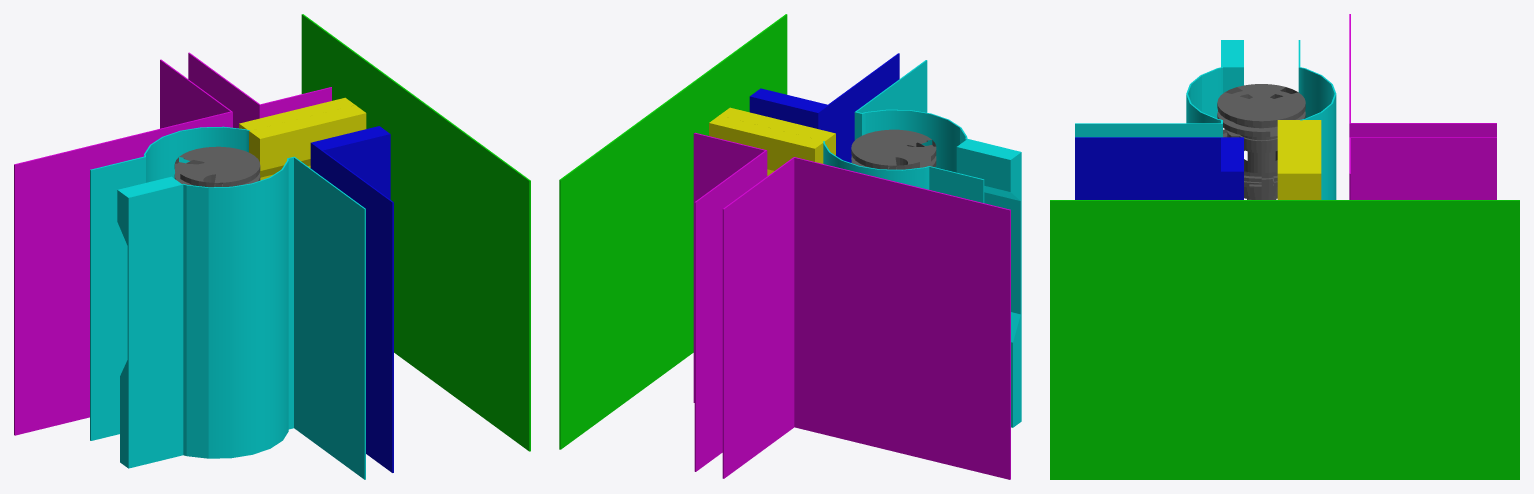
File: Level_Walls.fbx
3 views of the same model, side by side, from view 1: azimuth 30°, elevation 25°; view 2: azimuth 150°, elevation 25°; view 3: azimuth 270°, elevation 25° (orthographic). The views are drawn at different scales.
Parts seen in each view (by area): view 1: Tower_Wall, Right_Wall, Back_Wall, Front_Wall, Tutorial_Wall_Details, Tower; view 2: Back_Wall, Right_Wall, Tower_Wall, Front_Wall, Tutorial_Wall_Details, Tower; view 3: Right_Wall, Back_Wall, Front_Wall, Tower_Wall, Tower, Tutorial_Wall_Details, Tower_Piece5, Tower_Piece6.
Boxes of the visible parts, x1,y1,x2,y2 form: Tower_Wall: (90,126,365,479); Right_Wall: (301,14,530,451); Back_Wall: (14,52,331,435); Front_Wall: (310,126,393,472); Tutorial_Wall_Details: (239,97,366,177); Tower: (174,146,260,187); Back_Wall: (693,132,1010,479); Right_Wall: (559,14,787,449); Tower_Wall: (823,60,1021,427); Front_Wall: (749,53,899,162); Tutorial_Wall_Details: (709,107,835,175); Tower: (851,129,936,169); Right_Wall: (1050,200,1519,479); Back_Wall: (1349,14,1496,199); Front_Wall: (1075,137,1243,199); Tower_Wall: (1075,40,1336,199); Tower: (1217,84,1305,199); Tutorial_Wall_Details: (1277,120,1321,199); Tower_Piece5: (1227,130,1277,153); Tower_Piece6: (1244,171,1277,199).
Size of the model in its own units: 4507764 by 3173569 by 4793326.
